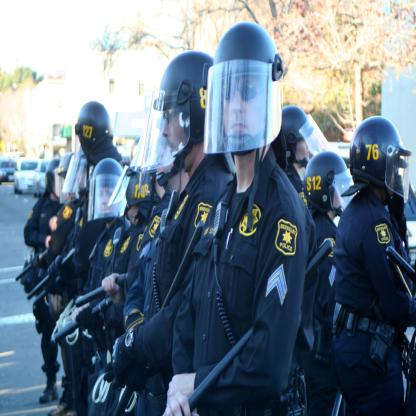Helmet: (201, 22, 286, 160), (138, 48, 214, 173), (346, 112, 409, 206), (130, 100, 185, 188), (276, 101, 334, 168), (307, 145, 357, 209), (73, 98, 117, 154)
